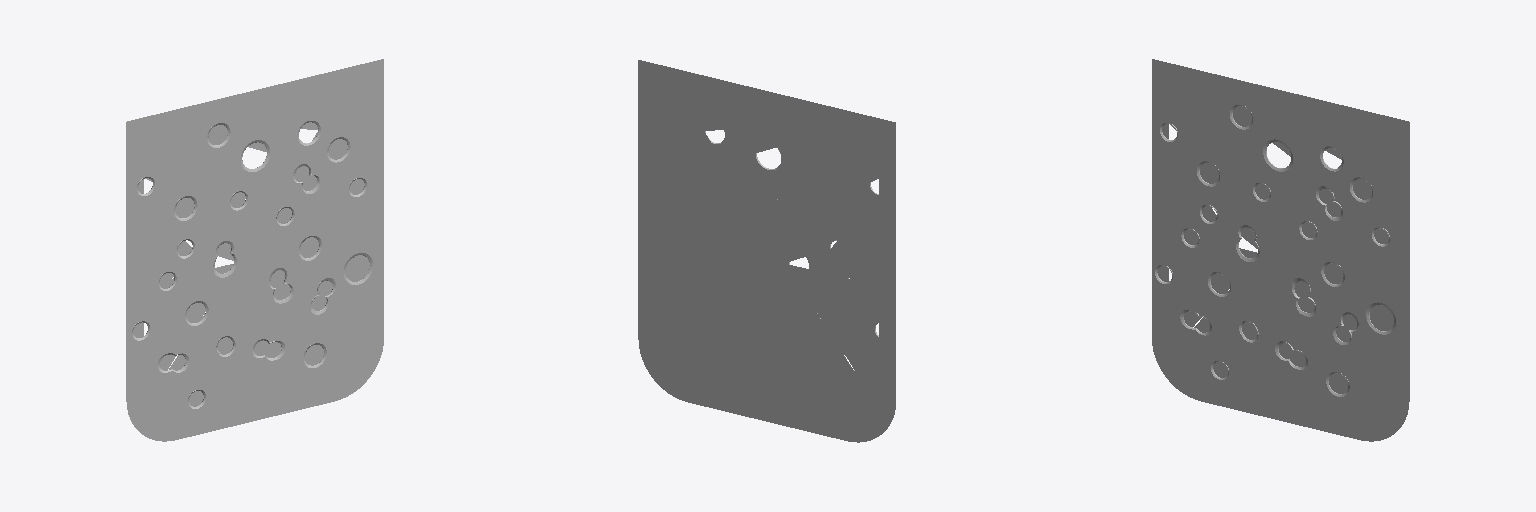
The model's file is Speelveld_004.obj.
3 renders of one model, left to right at view 1: azimuth 30°, elevation 25°; view 2: azimuth 150°, elevation 25°; view 3: azimuth 330°, elevation 25°, orthographic.
Parts seen in each view (by area): view 1: Level_004_Plane.004; view 2: Level_004_Plane.004; view 3: Level_004_Plane.004.
Boxes of the visible parts, x1=… form: Level_004_Plane.004: x1=126, y1=59, x2=383, y2=441; Level_004_Plane.004: x1=638, y1=60, x2=895, y2=442; Level_004_Plane.004: x1=1152, y1=59, x2=1409, y2=441.
Bounding box in the file's own units: 26 × 31.87 × 0.2235.